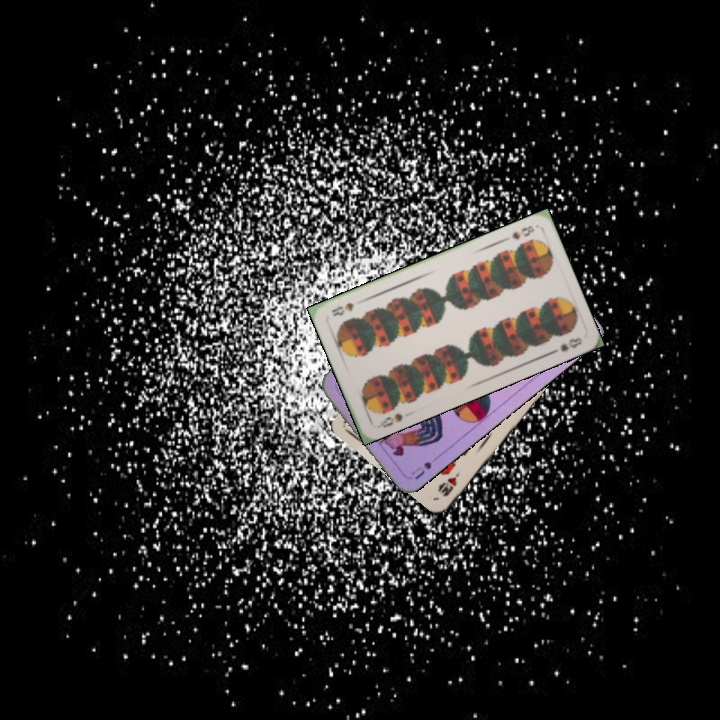H10: (435, 468, 463, 499)
S8: (373, 409, 405, 431), (507, 221, 537, 242)
SU: (407, 451, 443, 482)
